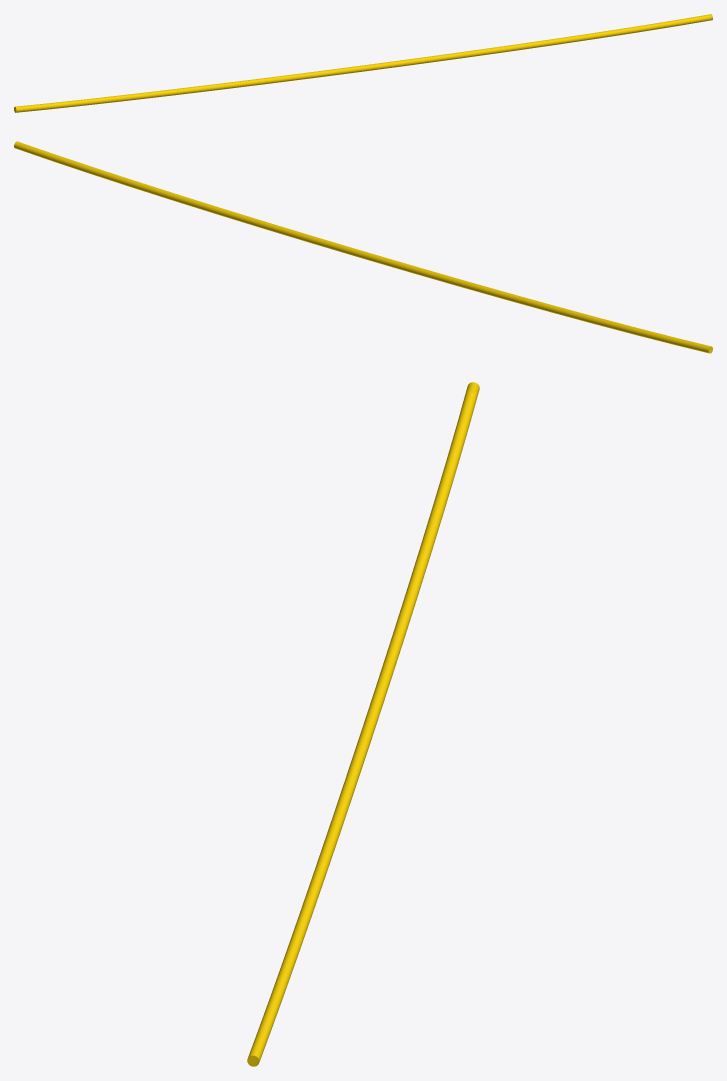
Rendered from Event_420094457_track_25.fbx.
The picture shows the model from 3 angles, top to bottom: view 1: azimuth 30°, elevation 25°; view 2: azimuth 150°, elevation 25°; view 3: azimuth 270°, elevation 25°; orthographic projection. The views are drawn at different scales.
Visible parts, largest first — view 1: Model; view 2: Model; view 3: Model.
Boxes of the visible parts, left/top/right/bottom form: Model: left=14, top=14, right=712, bottom=112; Model: left=14, top=141, right=712, bottom=353; Model: left=247, top=382, right=479, bottom=1066.
Bounding box in the file's own units: 4.79 × 0.2095 × 0.7506.
